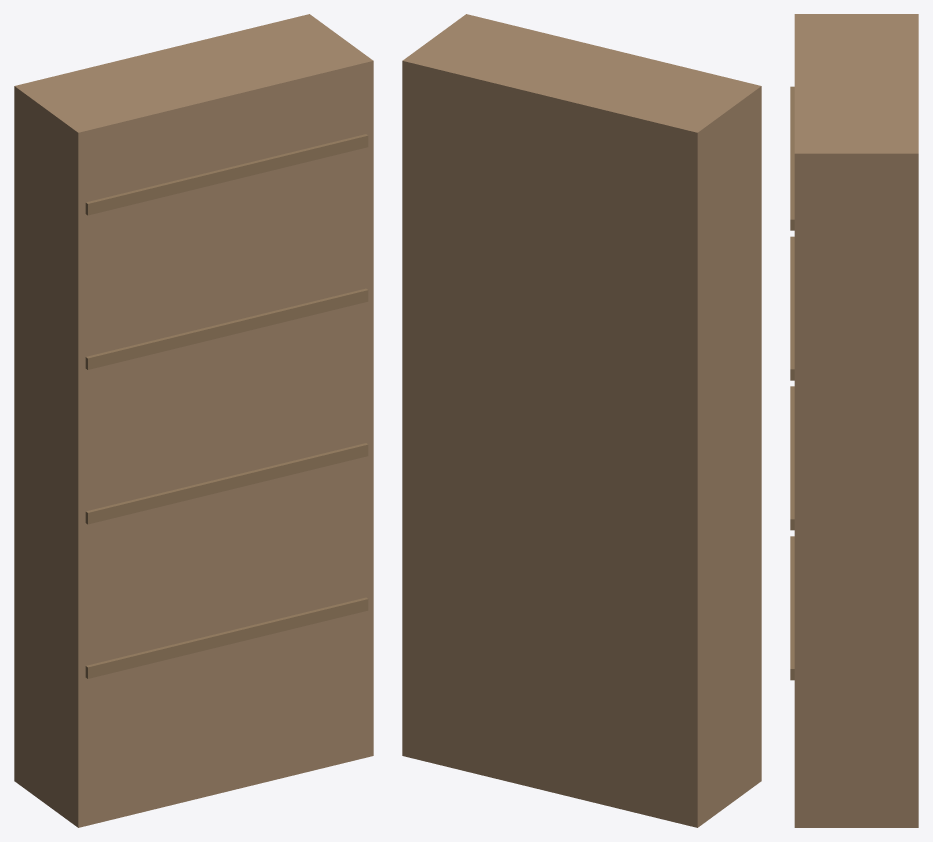
The model's file is shelf.glb.
3 views of the same model, side by side, from view 1: azimuth 30°, elevation 25°; view 2: azimuth 150°, elevation 25°; view 3: azimuth 270°, elevation 25° (orthographic). The views are drawn at different scales.
Parts seen in each view (by area): view 1: geometry_0, geometry_1, geometry_2, geometry_3, geometry_4; view 2: geometry_0; view 3: geometry_0, geometry_1, geometry_2, geometry_3, geometry_4.
Part boxes in pixels (x1,y1,x2,y2): geometry_0: (14, 14, 373, 827); geometry_1: (85, 597, 368, 678); geometry_2: (85, 443, 368, 524); geometry_3: (85, 288, 368, 369); geometry_4: (85, 134, 368, 215); geometry_0: (402, 14, 761, 827); geometry_0: (794, 14, 918, 827); geometry_1: (790, 536, 794, 680); geometry_2: (790, 386, 794, 530); geometry_3: (790, 236, 794, 380); geometry_4: (790, 86, 794, 230).
Bounding box in the file's own units: 0.8 × 1.8 × 0.31.
